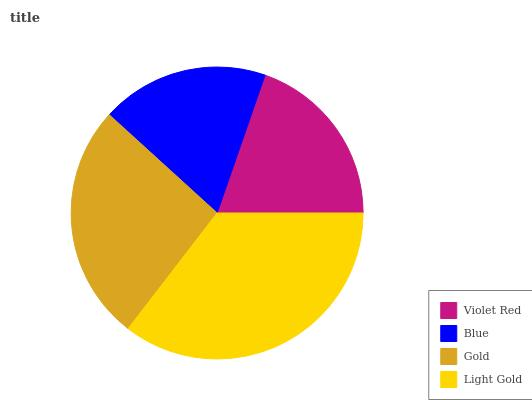legend: (426, 288, 532, 400)
sector: (126, 213, 364, 361), (71, 113, 216, 327), (109, 49, 267, 213), (218, 74, 368, 213)
